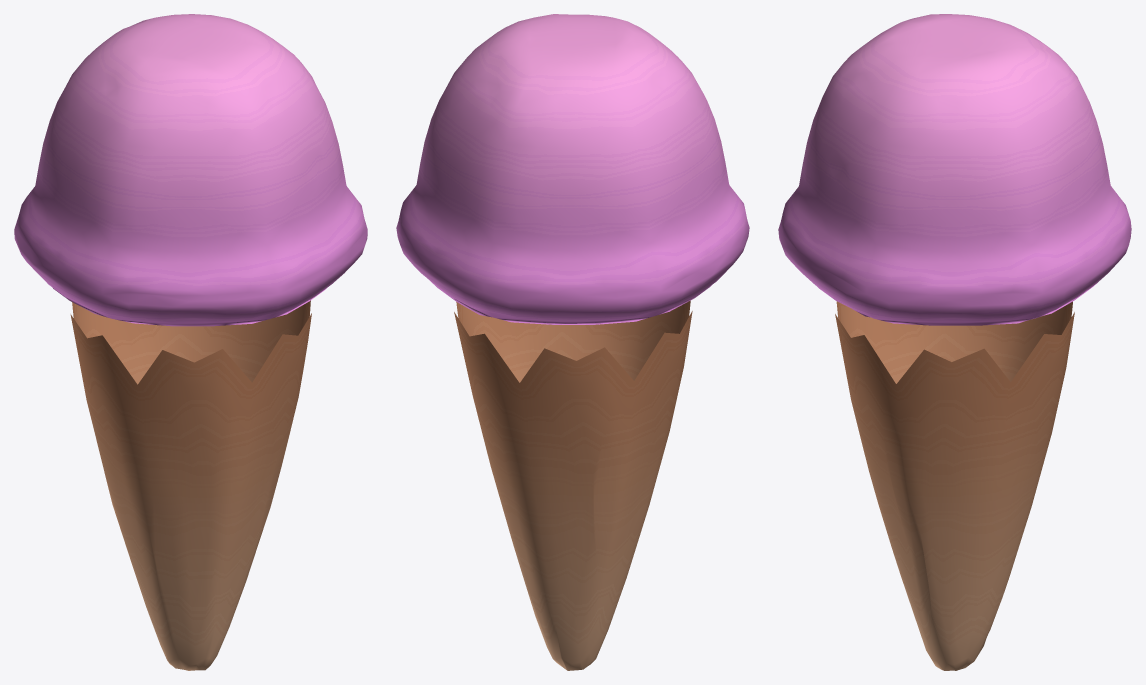
3 renders of one model, left to right at view 1: azimuth 30°, elevation 25°; view 2: azimuth 150°, elevation 25°; view 3: azimuth 270°, elevation 25°, orthographic.
Bounding box in the file's own units: 0.4908 × 1 × 0.5095.
Materials: 1 (1 with a texture image).
